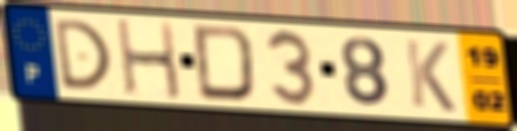3: (264, 27, 316, 108)
8: (339, 35, 393, 108)
D: (190, 23, 259, 105), (51, 17, 115, 92)
H: (113, 17, 184, 102)
K: (401, 36, 459, 115)
